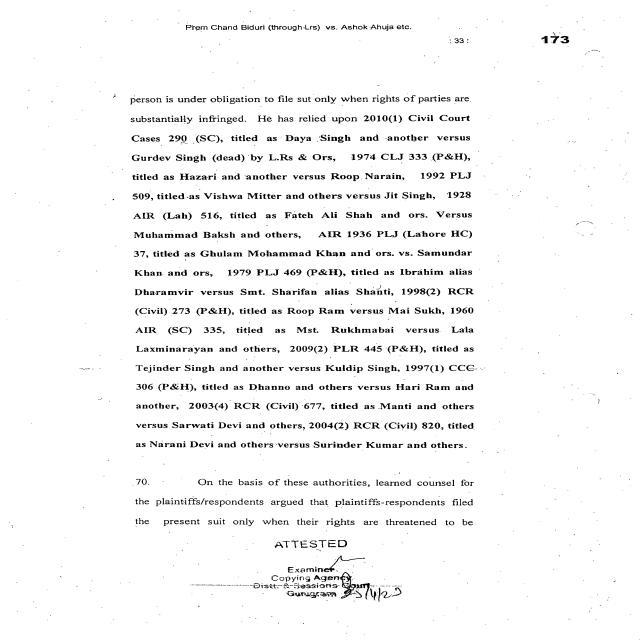page-number: (471, 0, 638, 47)
